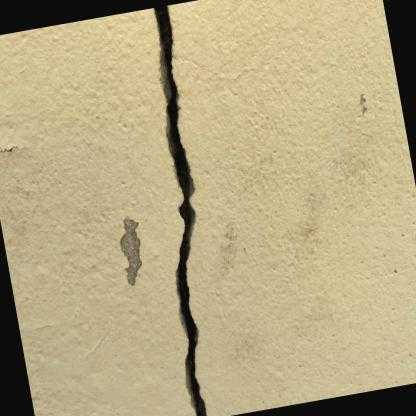crack: (152, 4, 206, 416)
